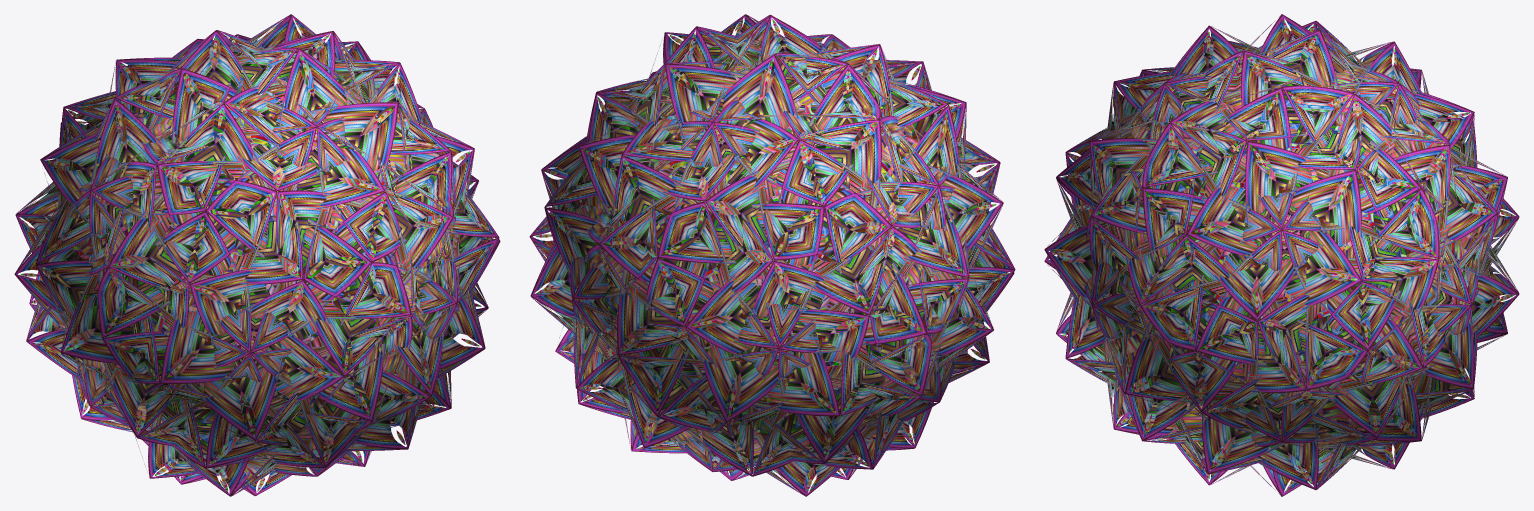
Rendered from 7GreatPentagonalHexecontahedron.gltf.
The picture shows the model from 3 angles, left to right: view 1: azimuth 30°, elevation 25°; view 2: azimuth 150°, elevation 25°; view 3: azimuth 270°, elevation 25°; orthographic projection.
Parts seen in each view (by area): view 1: 7GreatPentagonalHexecontahedron; view 2: 7GreatPentagonalHexecontahedron; view 3: 7GreatPentagonalHexecontahedron.
Part boxes in pixels (left/top/right/bottom): 7GreatPentagonalHexecontahedron: left=14, top=14, right=500, bottom=496; 7GreatPentagonalHexecontahedron: left=529, top=14, right=1015, bottom=496; 7GreatPentagonalHexecontahedron: left=1044, top=14, right=1519, bottom=496.
Bounding box in the file's own units: 1.42 × 1.42 × 1.42.
Materials: 1 (1 with a texture image).
